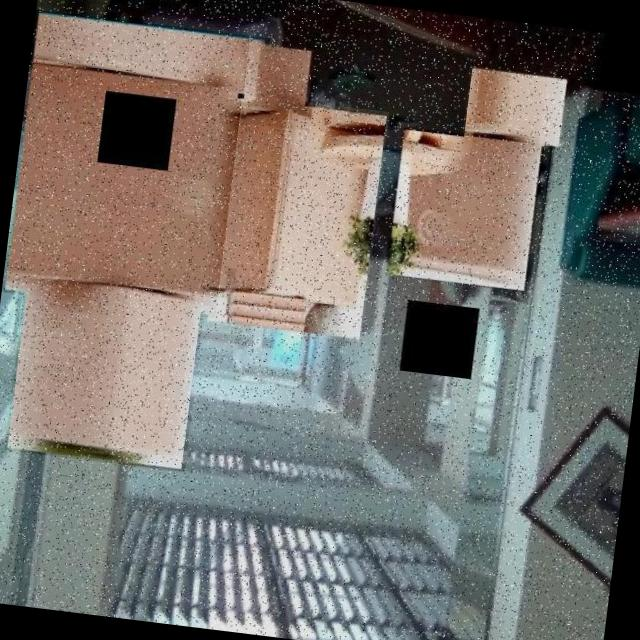box: (1, 54, 244, 318), (205, 93, 389, 342), (4, 262, 208, 472), (386, 124, 544, 290), (29, 9, 270, 96), (462, 66, 570, 148), (240, 41, 314, 130)
